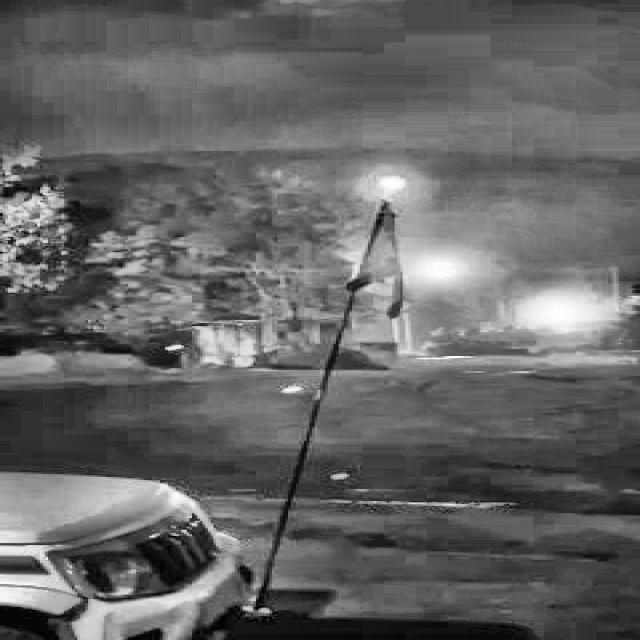light_vehicle: (0, 347, 269, 640)
